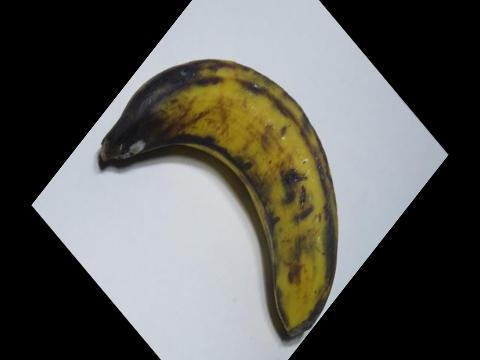overripe: (85, 44, 369, 359)
rotten: (86, 44, 216, 164)
